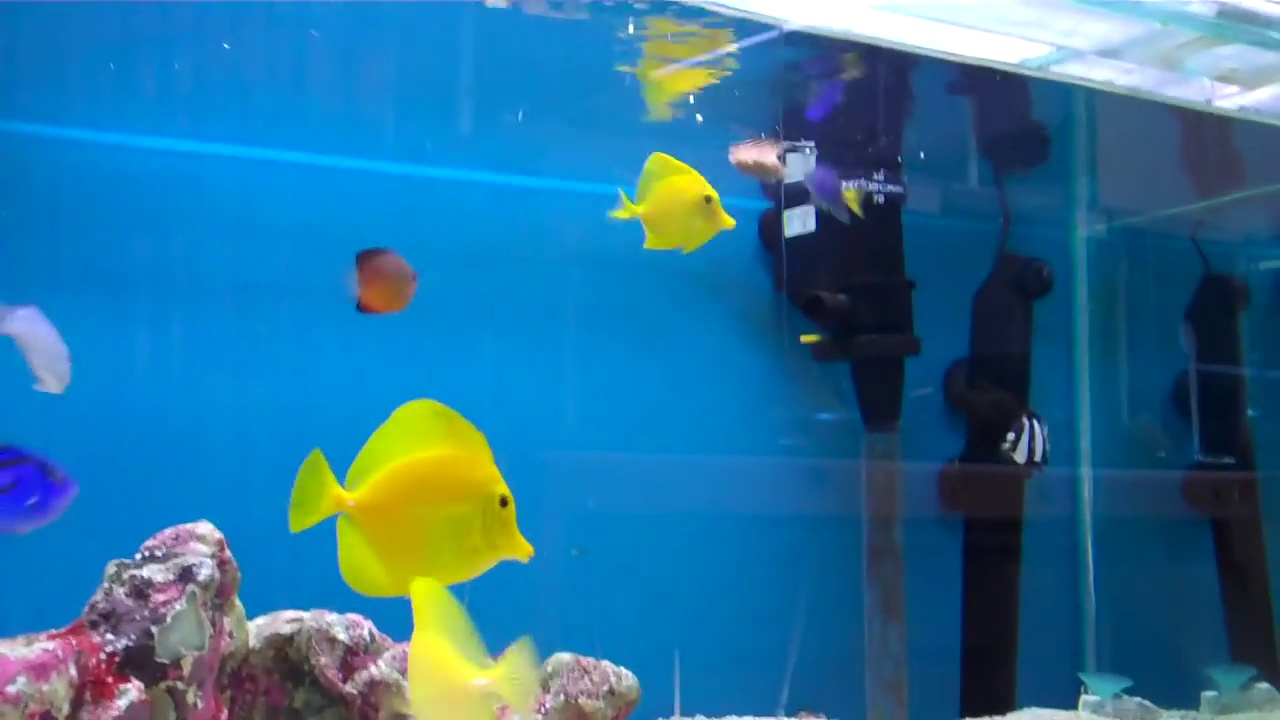saddle butterfly fish: (295, 412, 555, 606), (366, 587, 595, 720), (612, 140, 742, 268)
